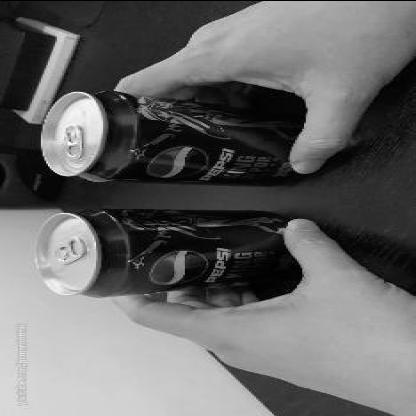alumunium_can: (40, 88, 306, 186), (28, 207, 302, 299)
